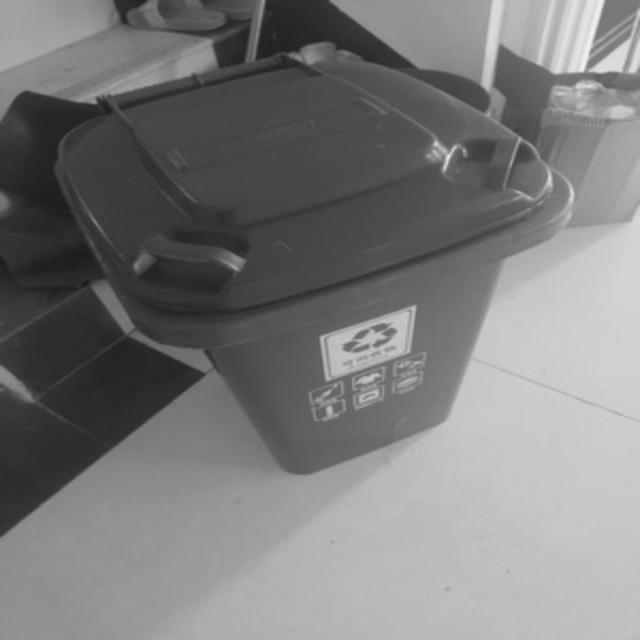ash bin: (57, 49, 574, 473)
